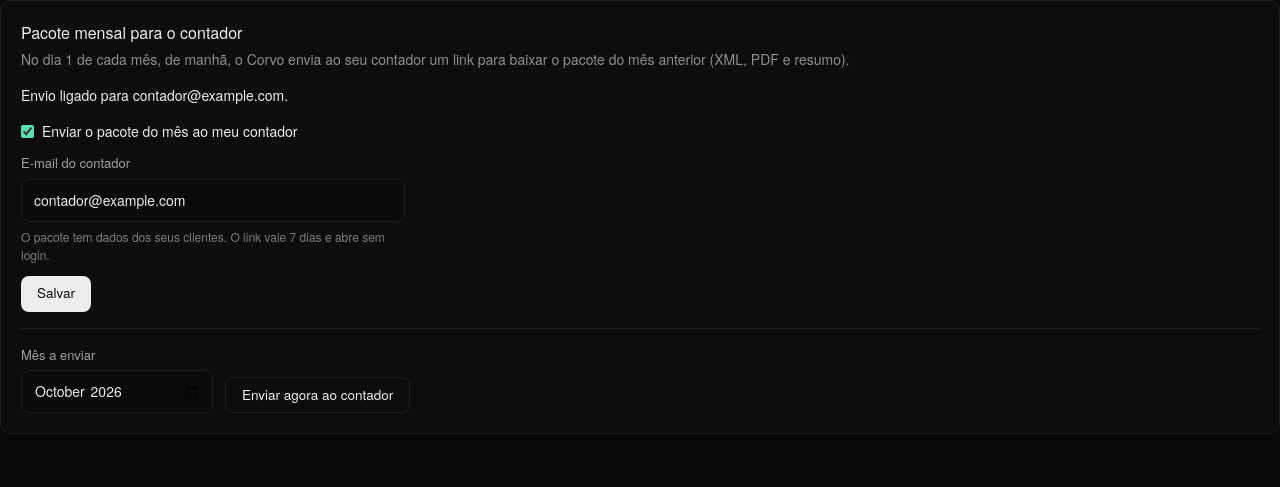
it: AccountantPackageCard test e-mail › does not mention a test e-mail when the address did not change
Check: the text "Envio ligado para contador@example.com." is shown, box [21,85,288,105]
Click the button "Salvar" at (56, 294), box [21,276,91,312]
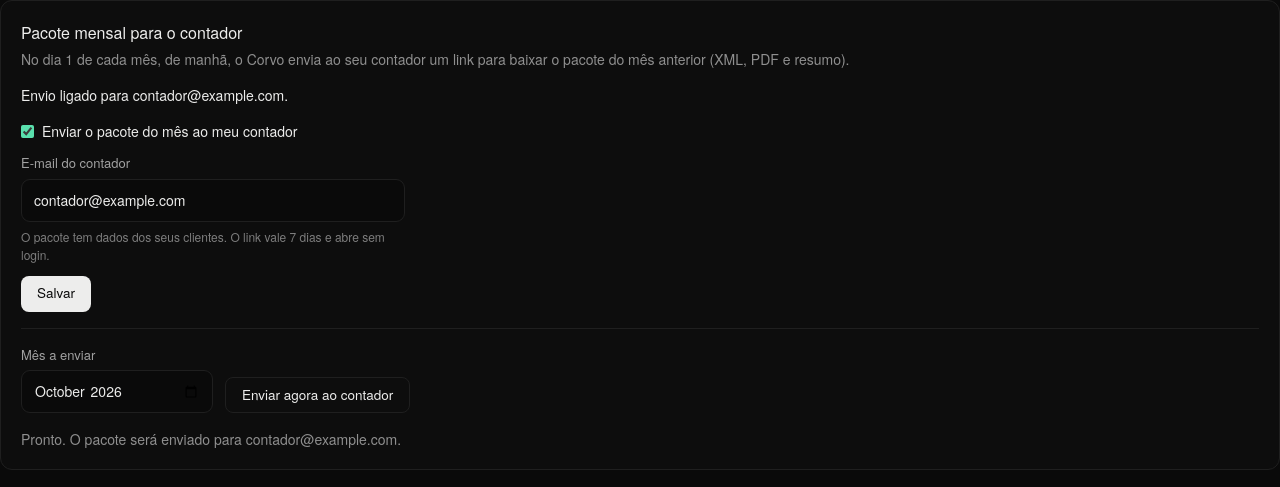
Check: the text "Pronto. O pacote será enviado para contador@example.com." is shown, box [21,429,401,449]
